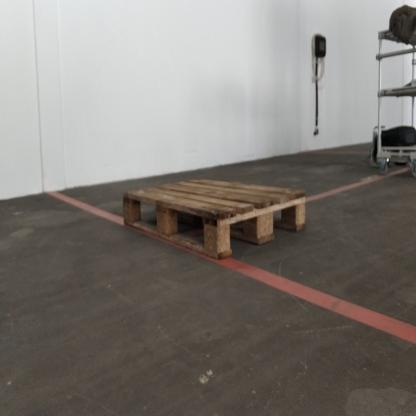BoxFace: (120, 173, 308, 265)
